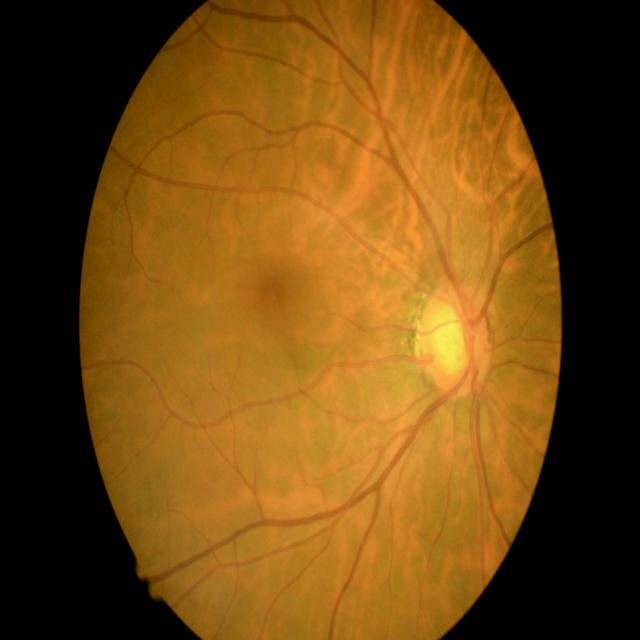cup: (435, 298, 473, 372)
disk: (417, 289, 491, 397)
